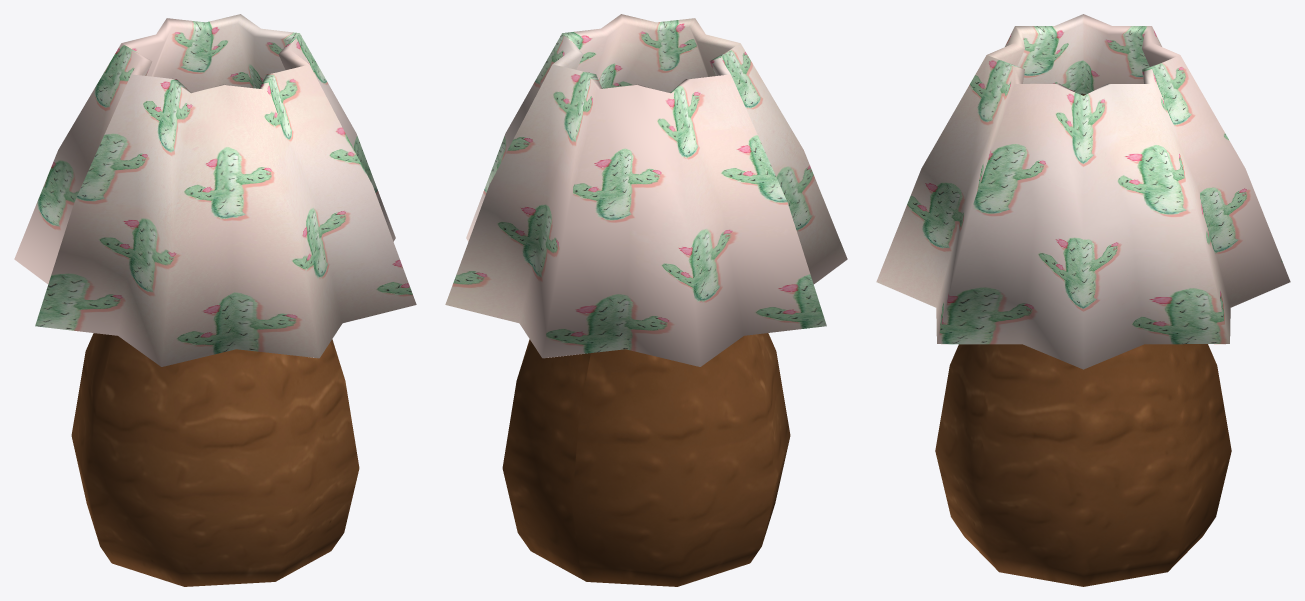
File: velador.fbx
3 views of the same model, side by side, from view 1: azimuth 30°, elevation 25°; view 2: azimuth 150°, elevation 25°; view 3: azimuth 270°, elevation 25° (orthographic).
Parts seen in each view (by area): view 1: Velador; view 2: Velador; view 3: Velador.
Boxes of the visible parts, <box> form: Velador: <box>14,14,416,586</box>; Velador: <box>445,14,847,586</box>; Velador: <box>876,14,1290,586</box>.
Bounding box in the file's own units: 24.13 × 30.94 × 24.13.
